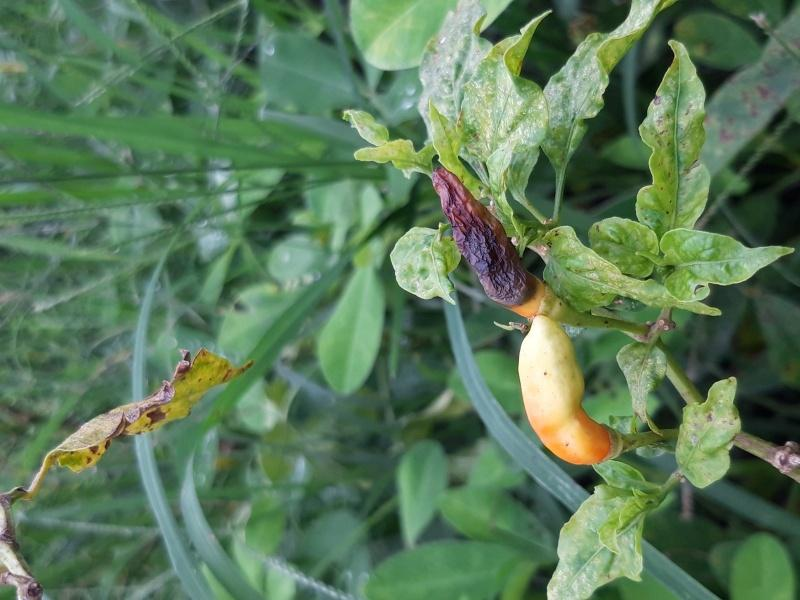antraknosa: (432, 169, 546, 318)
cabai_normal: (520, 318, 612, 465)
